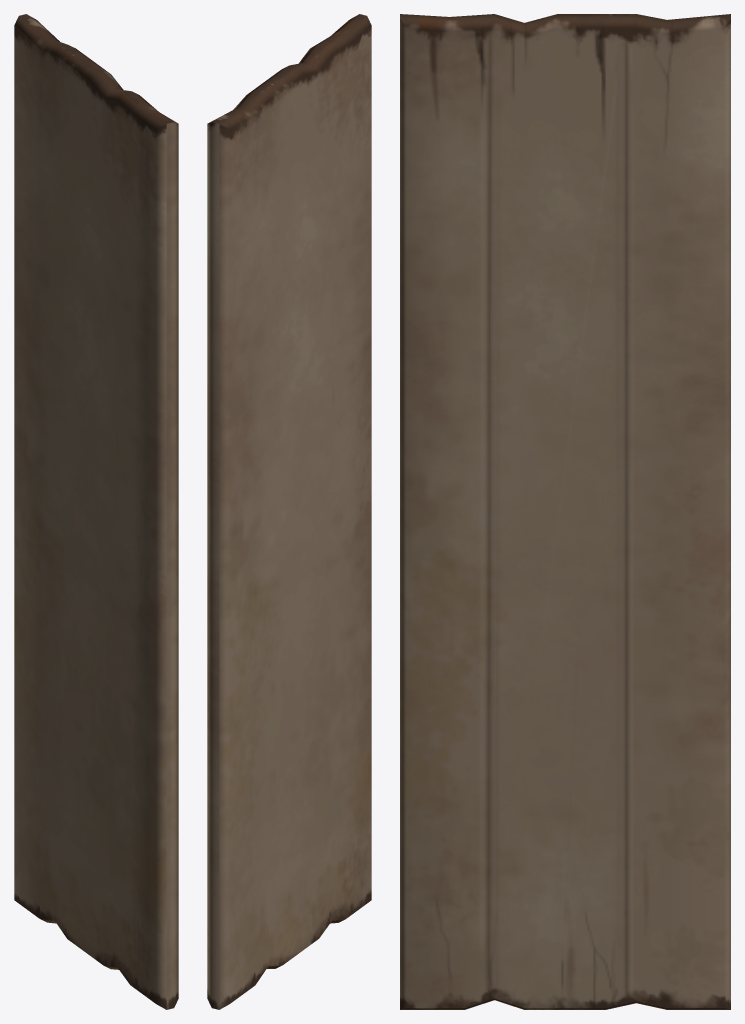
Rendered from PlankSign_1.fbx.
The picture shows the model from 3 angles, left to right: view 1: azimuth 30°, elevation 25°; view 2: azimuth 150°, elevation 25°; view 3: azimuth 270°, elevation 25°; orthographic projection. The views are drawn at different scales.
Parts seen in each view (by area): view 1: GenericSign_Chipped; view 2: GenericSign_Chipped; view 3: GenericSign_Chipped.
Part boxes in pixels (box(x1,y1,x2,y2)): GenericSign_Chipped: box(14, 14, 178, 1009); GenericSign_Chipped: box(207, 14, 371, 1009); GenericSign_Chipped: box(400, 14, 730, 1009).
Size of the model in its own units: 2.85 by 107 by 32.28.
